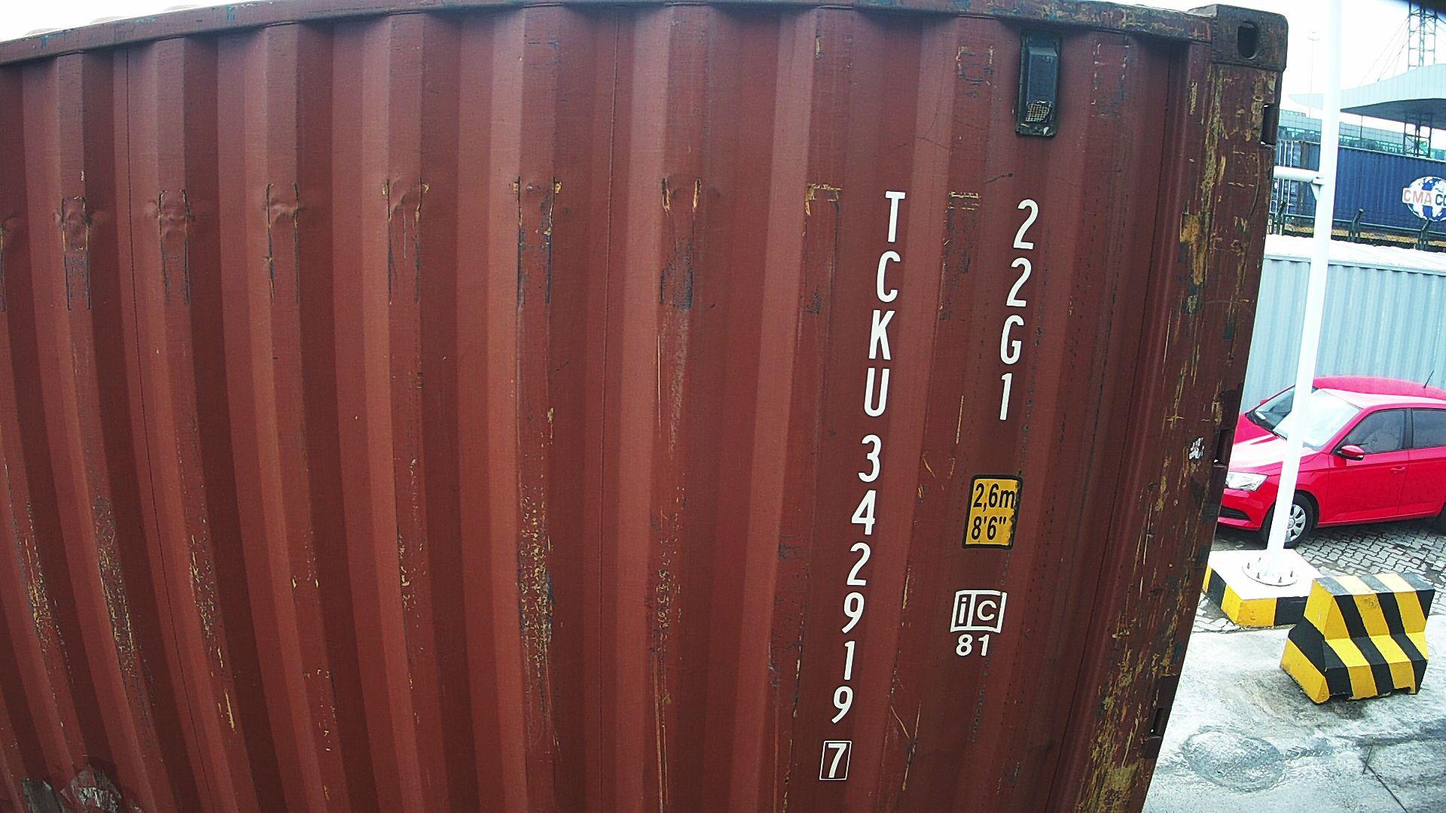container-numbers: (815, 184, 909, 786), (986, 194, 1042, 428)
